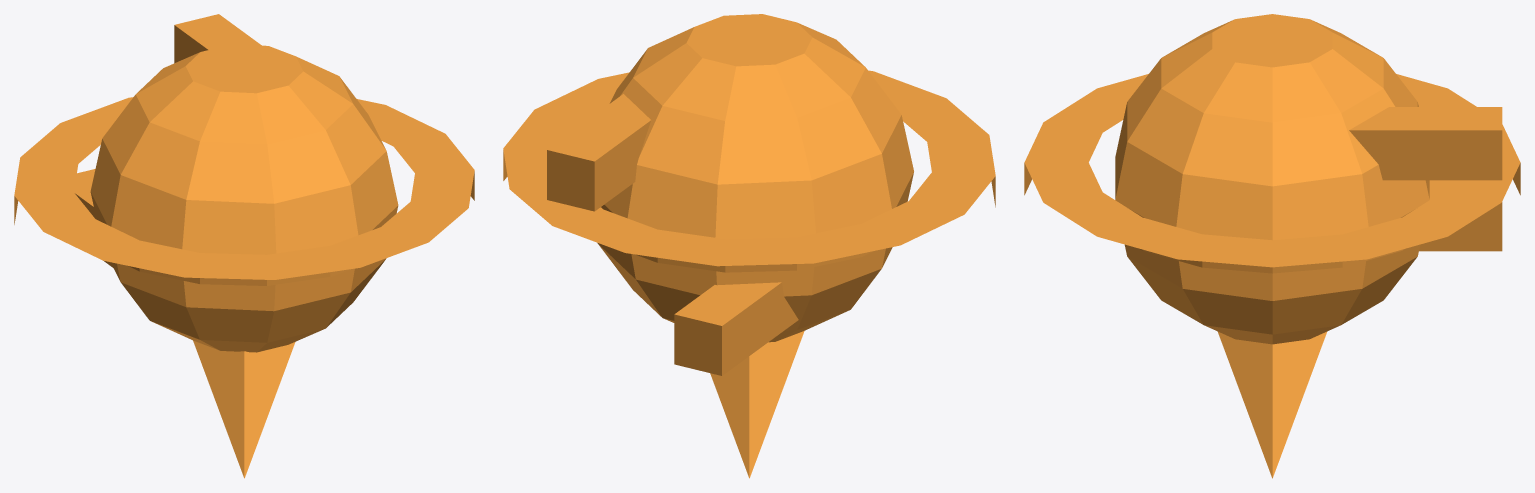
File: spell_fireball_projectile.glb
3 renders of one model, left to right at view 1: azimuth 30°, elevation 25°; view 2: azimuth 150°, elevation 25°; view 3: azimuth 270°, elevation 25°, orthographic. The views are drawn at different scales.
Visible parts, largest first — view 1: SpellFireball_Node; view 2: SpellFireball_Node; view 3: SpellFireball_Node.
Part boxes in pixels (x1,y1,x2,y2): SpellFireball_Node: (14, 14, 474, 478); SpellFireball_Node: (503, 14, 995, 478); SpellFireball_Node: (1024, 14, 1520, 478).
Bounding box in the file's own units: 0.54 × 0.54 × 0.54.
